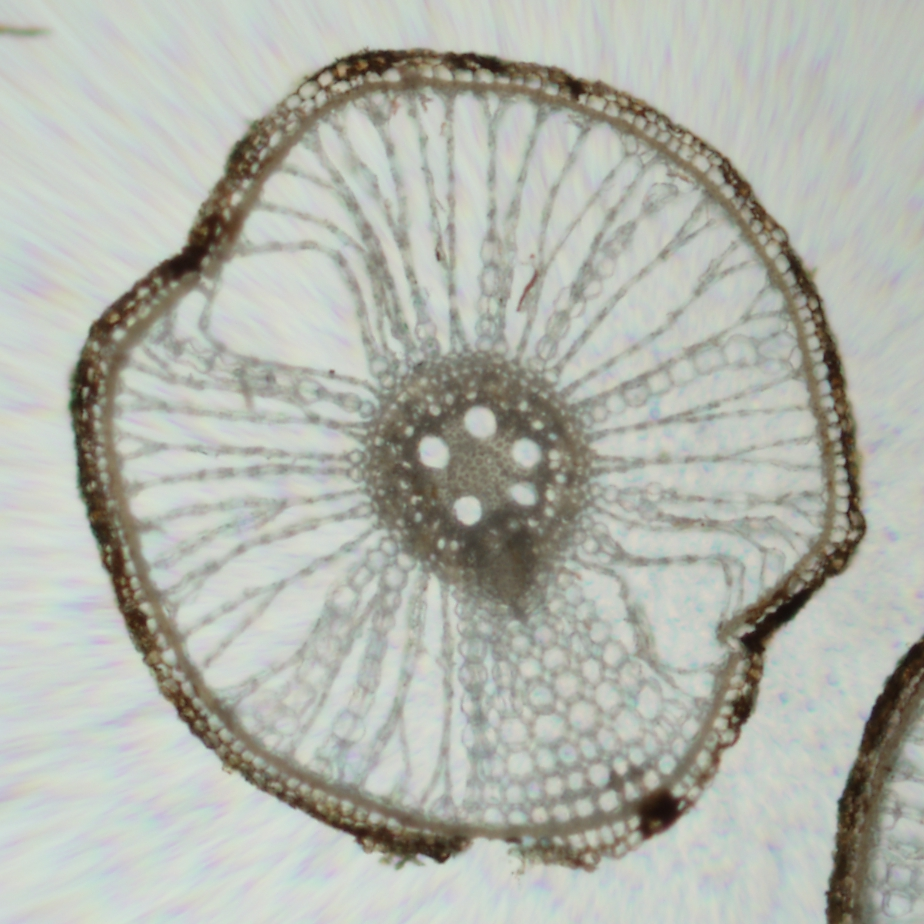lm: (464, 405, 497, 440), (418, 434, 450, 469), (511, 437, 542, 469), (452, 495, 482, 526), (510, 482, 539, 506)
